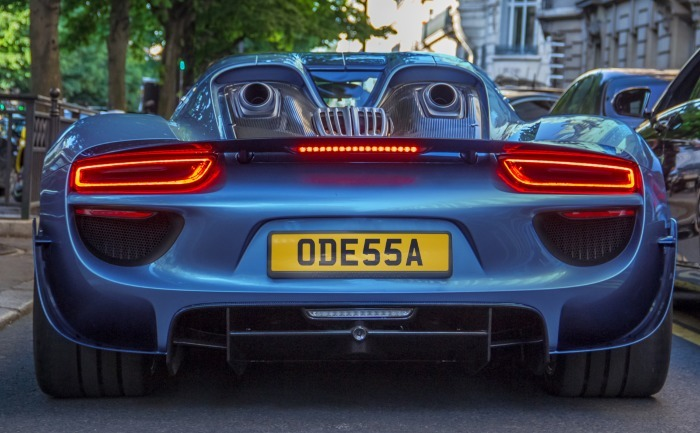number_plate: (263, 225, 462, 281)
